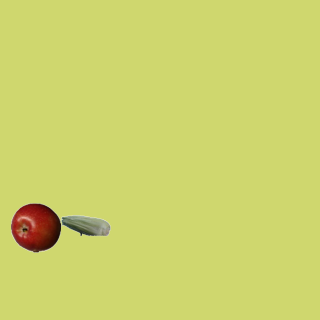Apple Braeburn: (10, 202, 60, 252)
Corn Husk: (60, 200, 110, 250)
